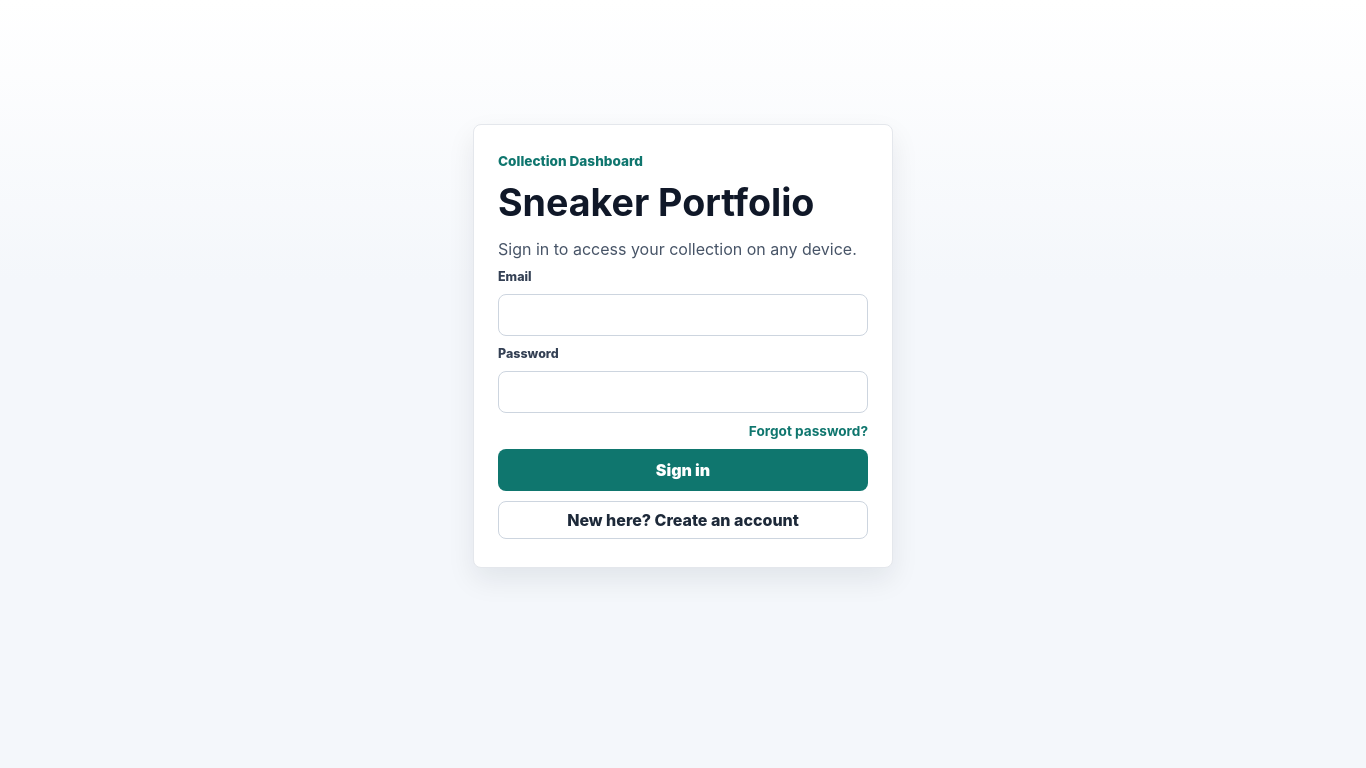
user authentication › shows invalid-credential errors without opening the portfolio
Type "collector@example.com" into the field labelled "Email".
click(683, 315); type("collector@example.com")  # box left=498, top=294, right=868, bottom=336
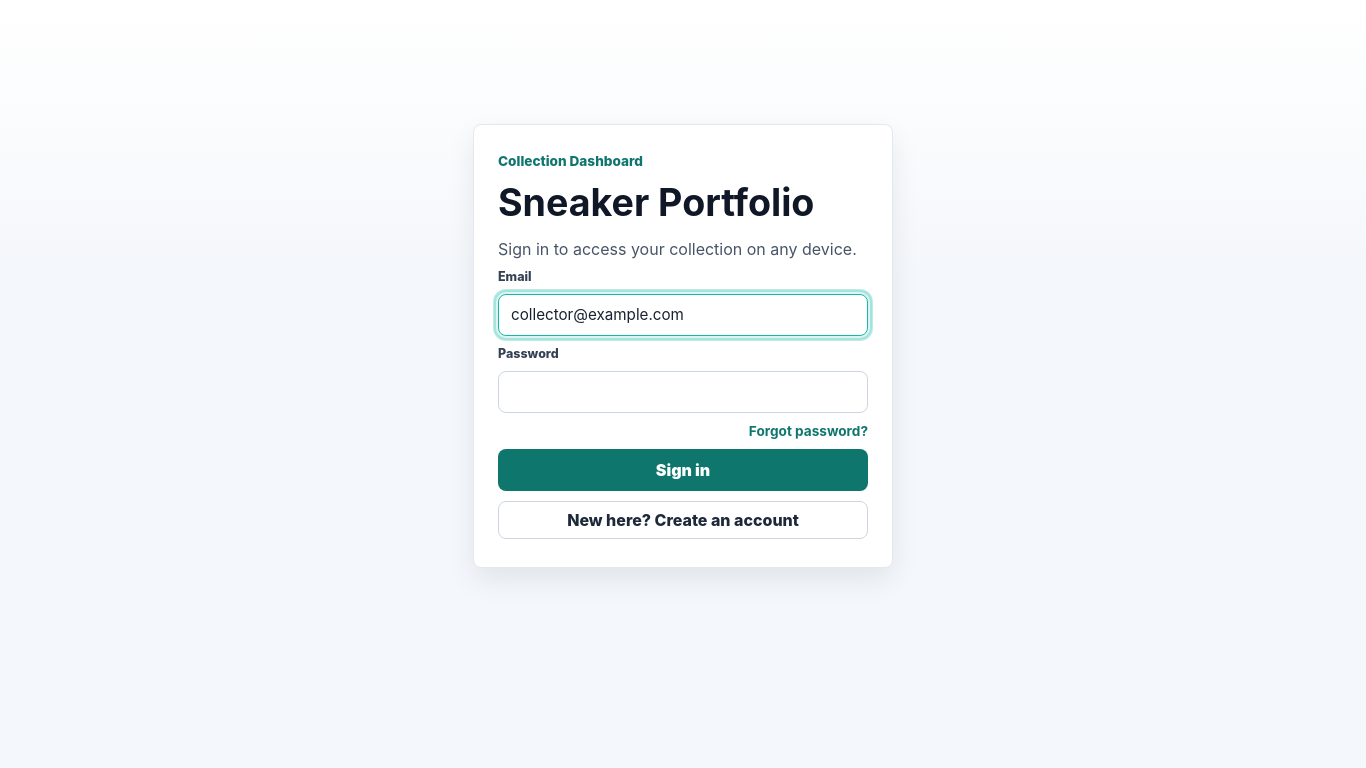
Type "Secret123!" into the password field labelled "Password".
click(683, 392); type("Secret123!")  # box left=498, top=371, right=868, bottom=413
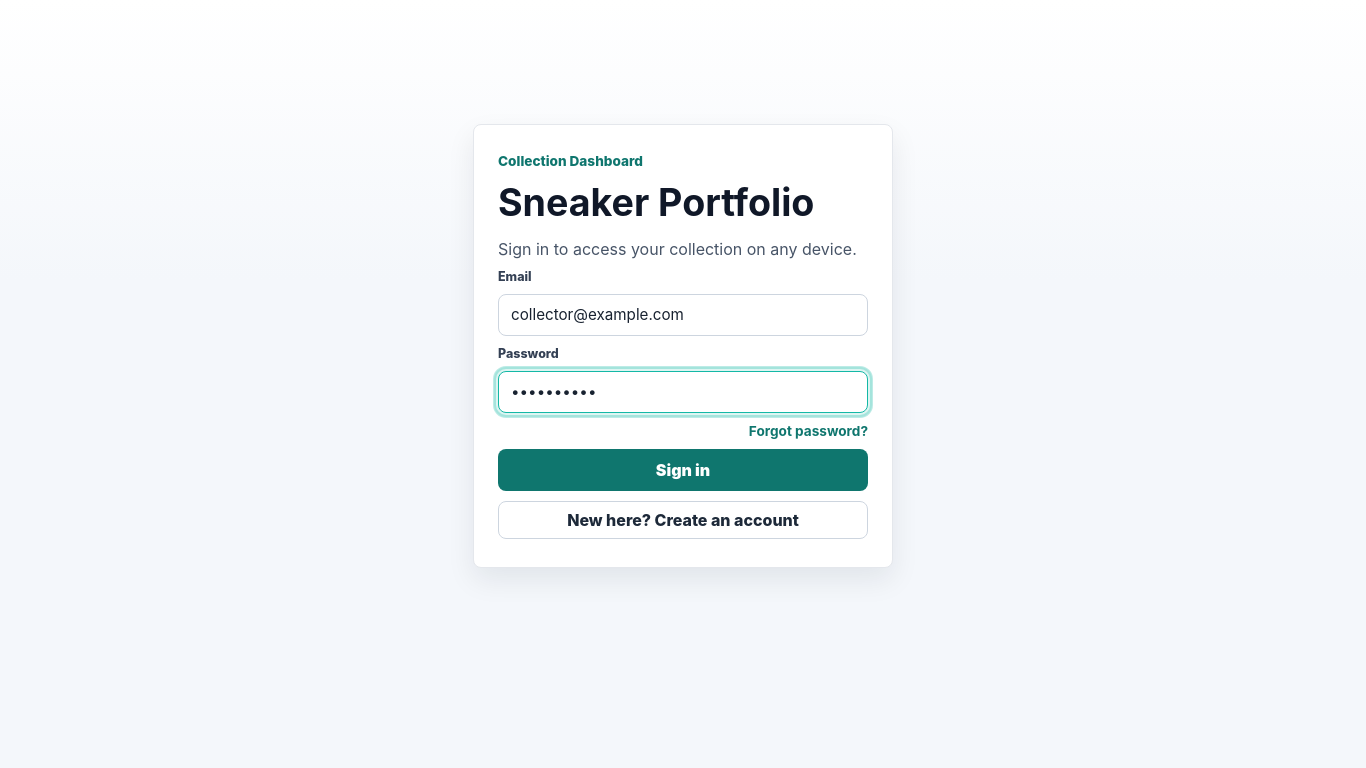
Click the button "Sign in".
click(683, 470)  # box left=498, top=449, right=868, bottom=491
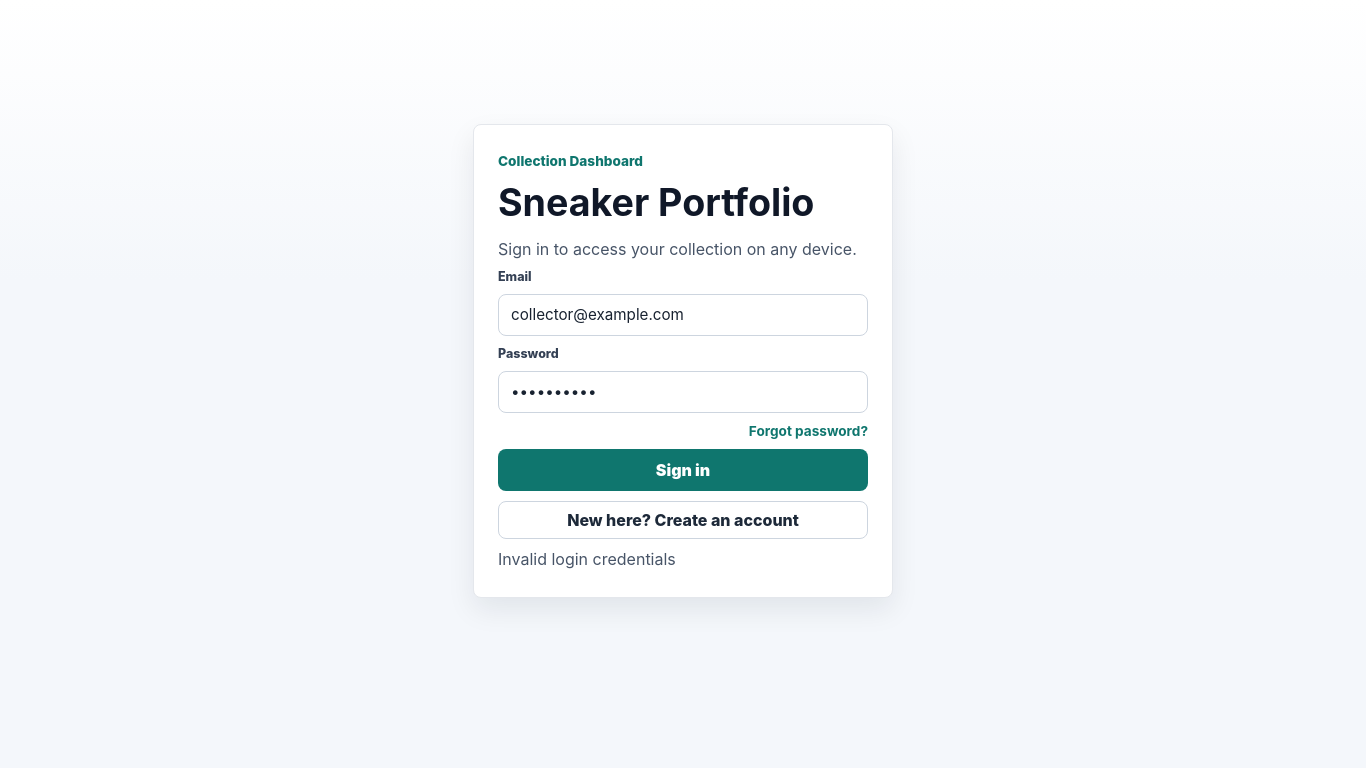
Expected: the message reads "Invalid login credentials", left=498, top=549, right=676, bottom=569
